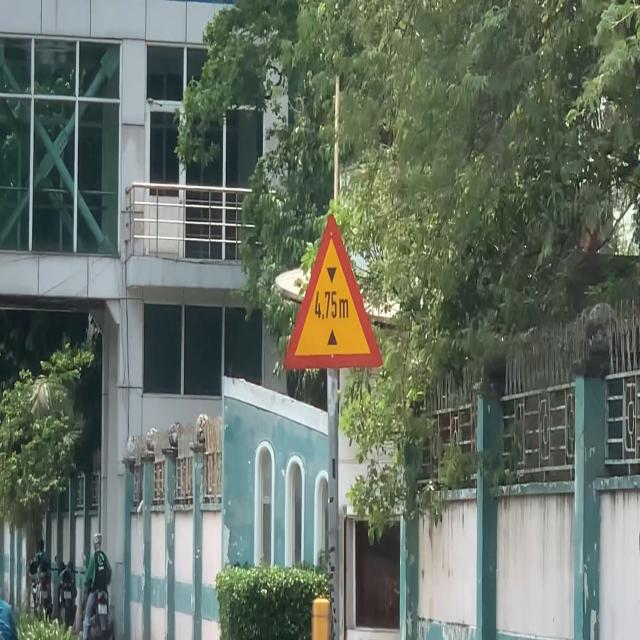Nguy hiem: (279, 211, 387, 378)
